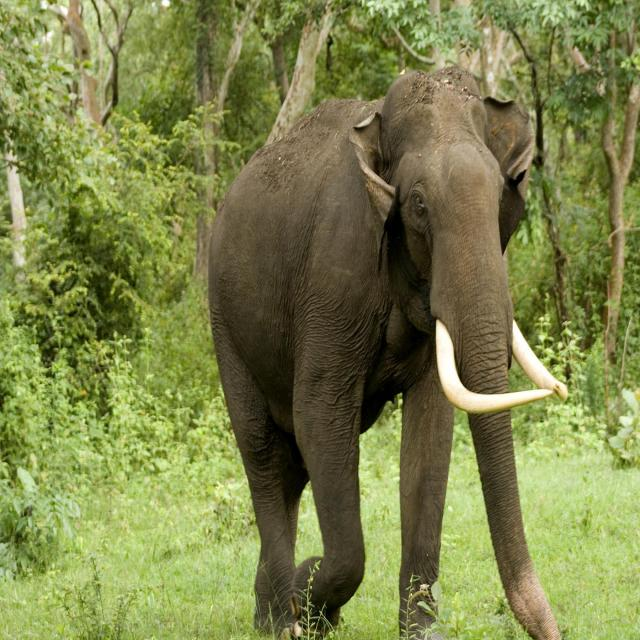Elephant: (203, 53, 577, 640)
